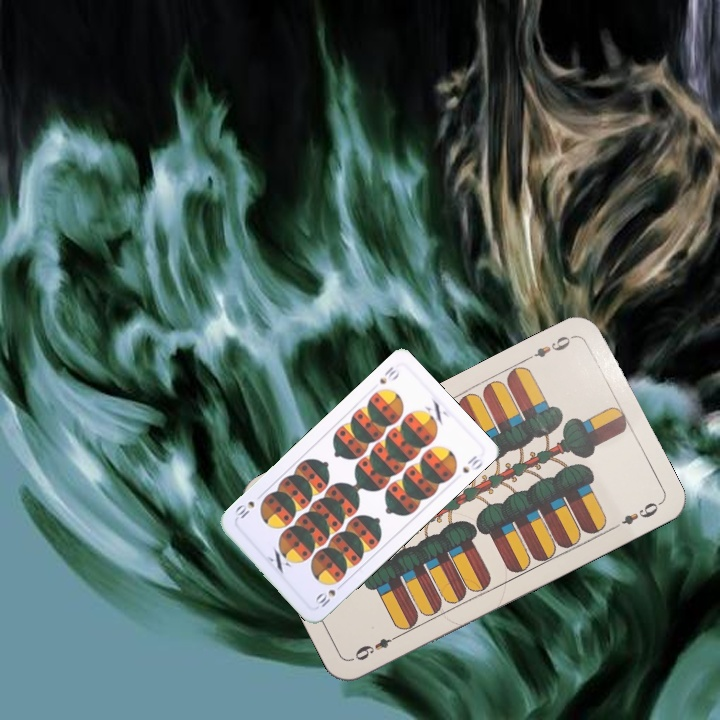E9: (521, 331, 577, 364), (350, 630, 404, 664)
S10: (311, 579, 346, 610), (375, 362, 402, 387)
